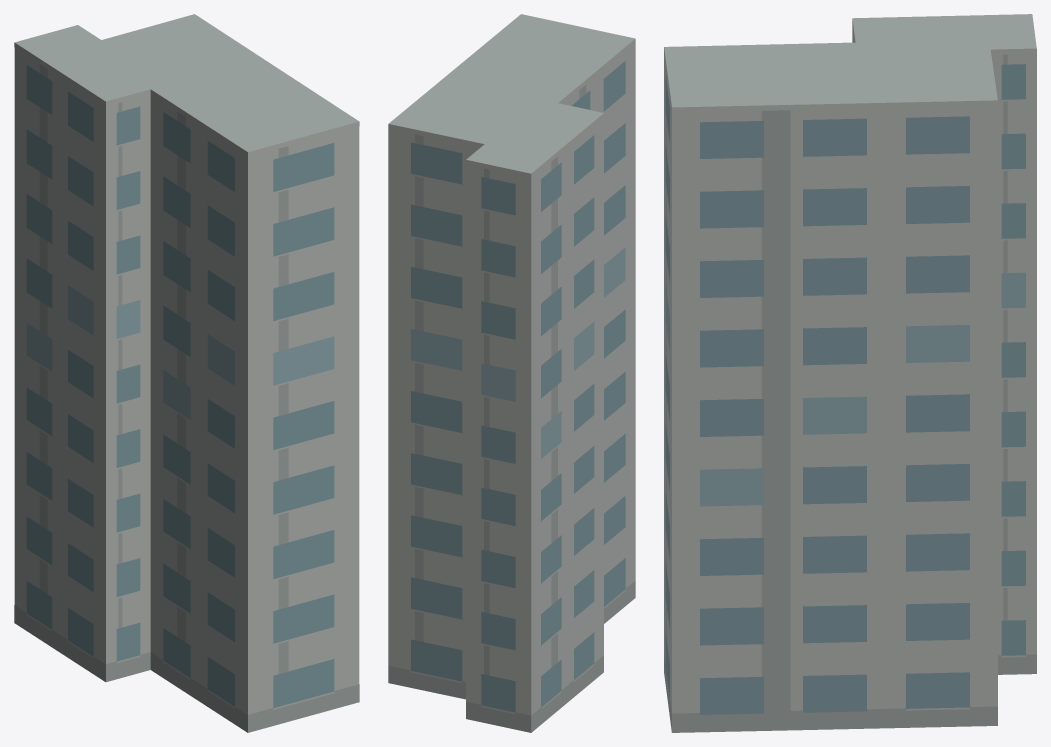
Rendered from survey-upis-32726829.glb.
3 views of the same model, side by side, from view 1: azimuth 30°, elevation 25°; view 2: azimuth 150°, elevation 25°; view 3: azimuth 270°, elevation 25° (orthographic). The views are drawn at different scales.
Visible parts, largest first — view 1: survey-upis-32726829.tmp; view 2: survey-upis-32726829.tmp; view 3: survey-upis-32726829.tmp.
Part boxes in pixels (x1,y1,x2,y2): survey-upis-32726829.tmp: (14,14,359,732); survey-upis-32726829.tmp: (388,14,635,732); survey-upis-32726829.tmp: (664,14,1036,732).
Bounding box in the file's own units: 9.14 × 28.5 × 15.4.
